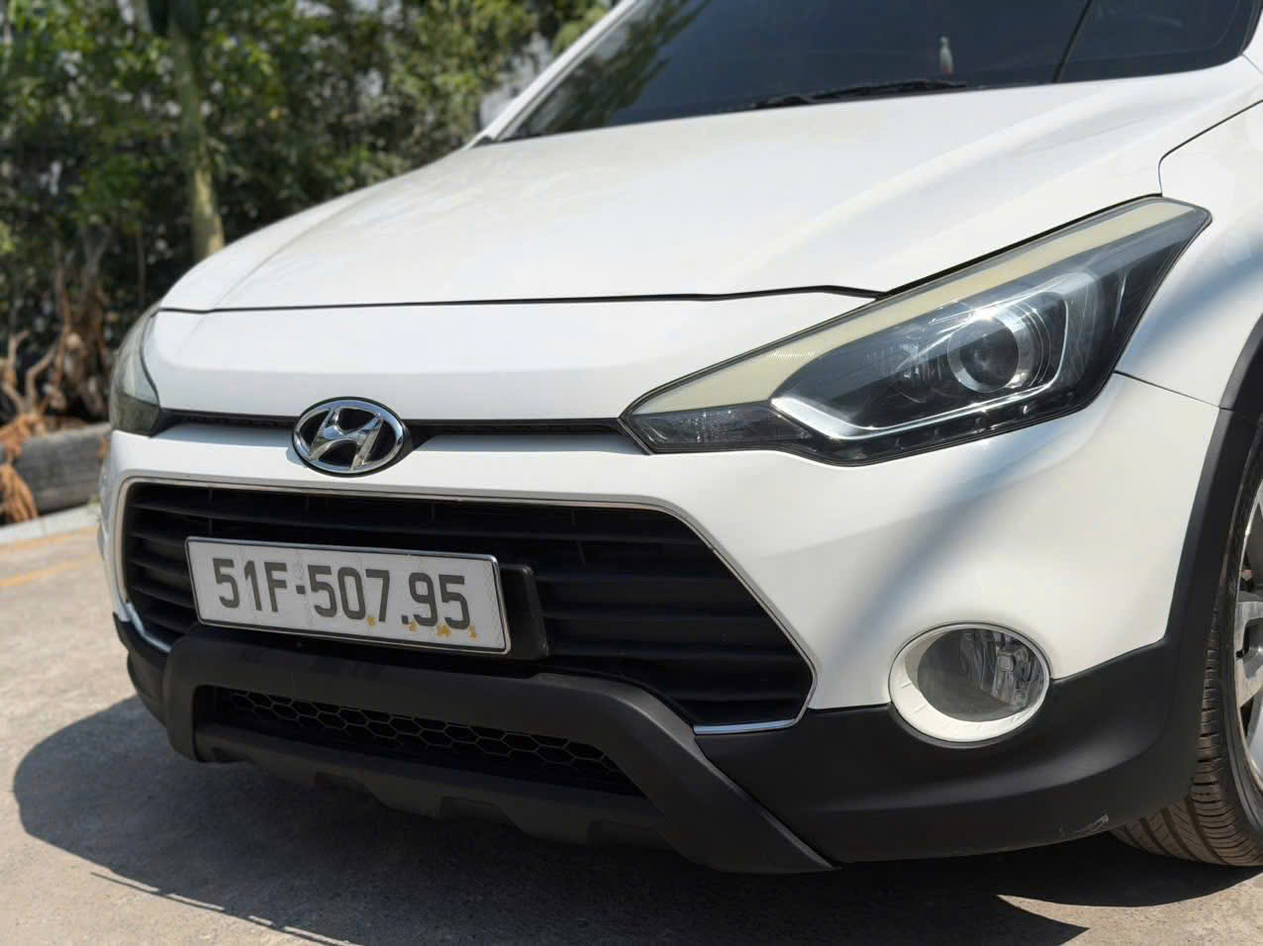Bien-so: (191, 544, 495, 639)
